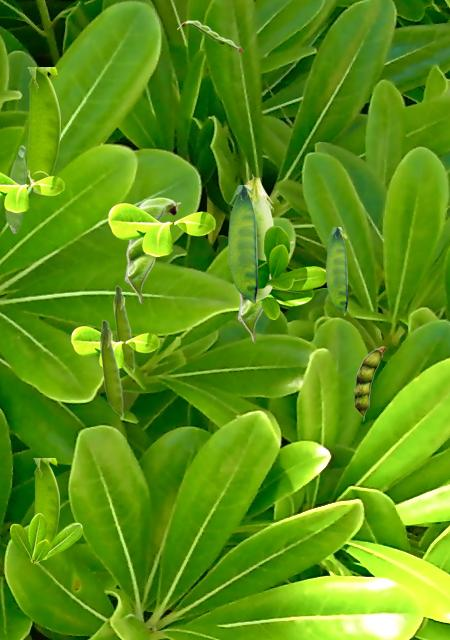pea: (124, 197, 180, 303), (237, 241, 293, 342), (27, 67, 59, 193), (245, 174, 274, 300), (228, 185, 256, 304), (99, 319, 123, 419), (354, 346, 385, 420), (33, 458, 58, 541), (177, 20, 242, 50), (113, 285, 134, 372), (326, 227, 346, 314), (5, 145, 25, 232)
